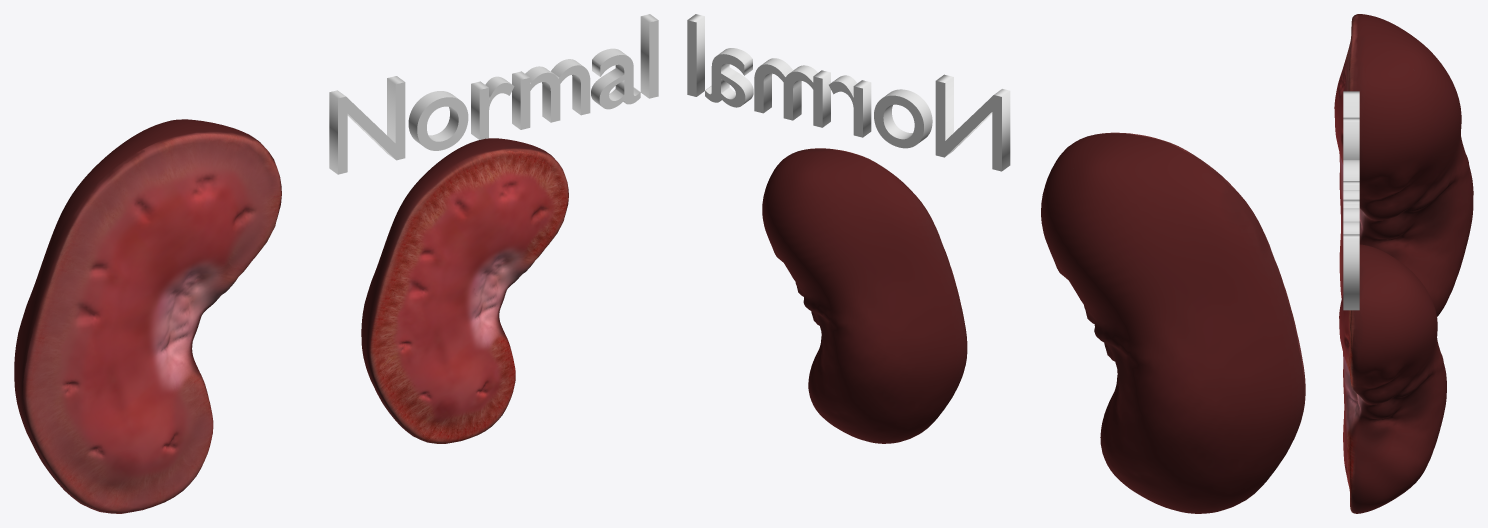
The model's file is 15_renomegaly.glb.
3 renders of one model, left to right at view 1: azimuth 30°, elevation 25°; view 2: azimuth 150°, elevation 25°; view 3: azimuth 270°, elevation 25°, orthographic. The views are drawn at different scales.
Visible parts, largest first — view 1: bobrektemel, bobrektemel.001, Text; view 2: bobrektemel, bobrektemel.001, Text; view 3: bobrektemel, bobrektemel.001, Text.
Part boxes in pixels (x1,y1,x2,y2): bobrektemel: [14, 119, 281, 513]; bobrektemel.001: [361, 138, 568, 443]; Text: [329, 14, 658, 174]; bobrektemel: [1041, 132, 1305, 513]; bobrektemel.001: [762, 148, 967, 443]; Text: [687, 14, 1010, 171]; bobrektemel: [1334, 14, 1473, 316]; bobrektemel.001: [1339, 244, 1446, 513]; Text: [1343, 91, 1359, 310].
Size of the model in its own units: 2.06 by 1.19 by 0.4201.
3 materials, 2 textured.
